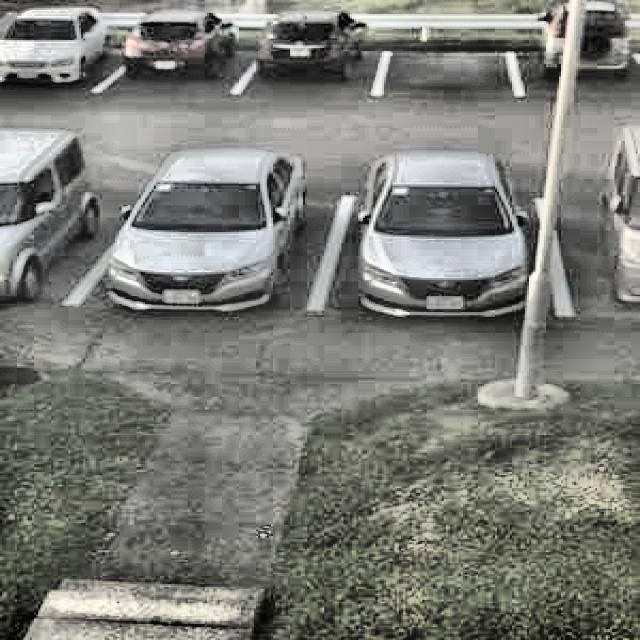license_plate: (165, 288, 205, 308), (428, 294, 466, 312), (153, 58, 182, 74), (16, 70, 43, 80), (288, 46, 308, 59)
